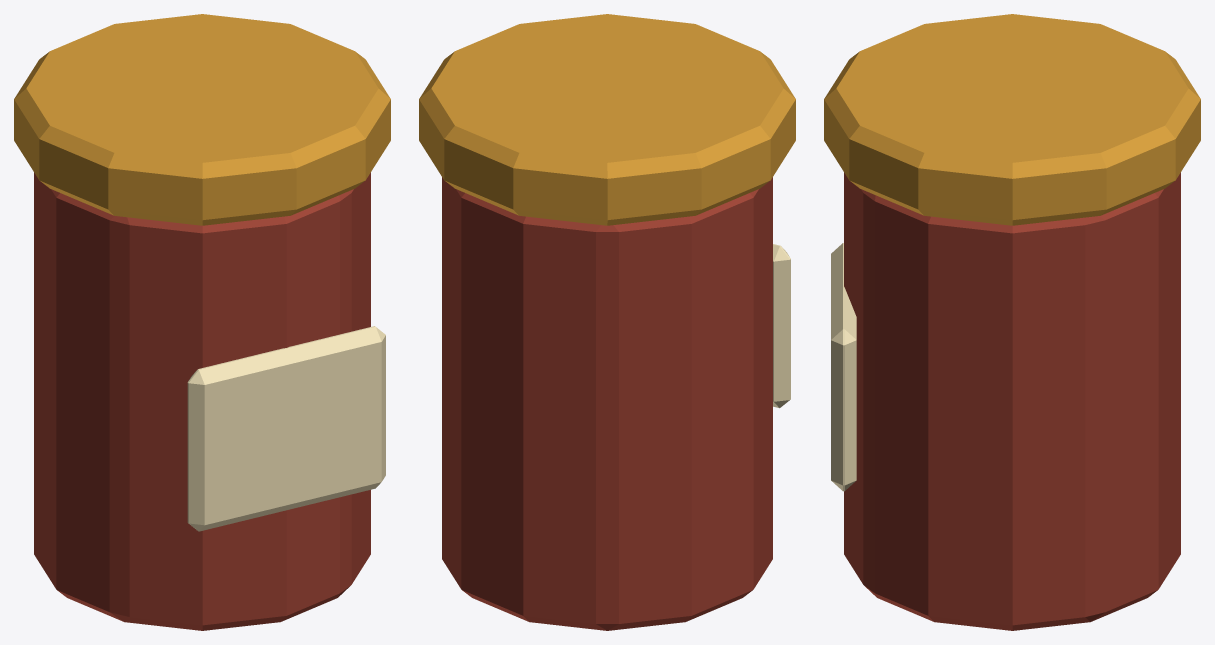
The model's file is preserve_jar.glb.
The picture shows the model from 3 angles, left to right: view 1: azimuth 30°, elevation 25°; view 2: azimuth 150°, elevation 25°; view 3: azimuth 270°, elevation 25°; orthographic projection.
Visible parts, largest first — view 1: preserve_jar__body__food, preserve_jar__body__brass, preserve_jar__body__linen; view 2: preserve_jar__body__food, preserve_jar__body__brass, preserve_jar__body__linen; view 3: preserve_jar__body__food, preserve_jar__body__brass, preserve_jar__body__linen.
Part boxes in pixels (box(x1,y1,x2,y2)): preserve_jar__body__food: box(34, 172, 370, 630); preserve_jar__body__brass: box(14, 14, 390, 225); preserve_jar__body__linen: box(187, 326, 385, 531); preserve_jar__body__food: box(442, 177, 772, 630); preserve_jar__body__brass: box(419, 14, 795, 225); preserve_jar__body__linen: box(773, 244, 790, 408); preserve_jar__body__food: box(844, 172, 1180, 630); preserve_jar__body__brass: box(824, 14, 1200, 225); preserve_jar__body__linen: box(831, 243, 856, 491).
Bounding box in the file's own units: 0.19 × 0.265 × 0.19.
